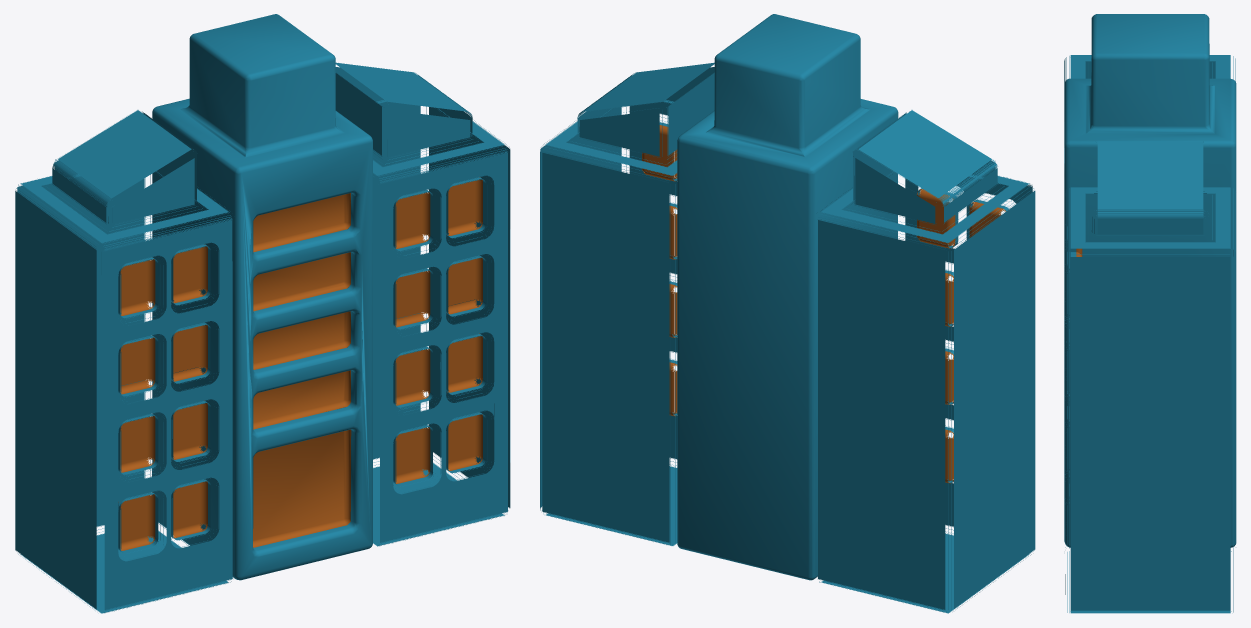
File: aigens.glb
The picture shows the model from 3 angles, left to right: view 1: azimuth 30°, elevation 25°; view 2: azimuth 150°, elevation 25°; view 3: azimuth 270°, elevation 25°; orthographic projection.
Visible parts, largest first — view 1: Cube.008; view 2: Cube.008; view 3: Cube.008.
Part boxes in pixels (x1=…): Cube.008: x1=15, y1=14, x2=510, y2=613; Cube.008: x1=540, y1=14, x2=1035, y2=613; Cube.008: x1=1064, y1=14, x2=1236, y2=613.
Bounding box in the file's own units: 0.9985 × 1.13 × 0.3655.
